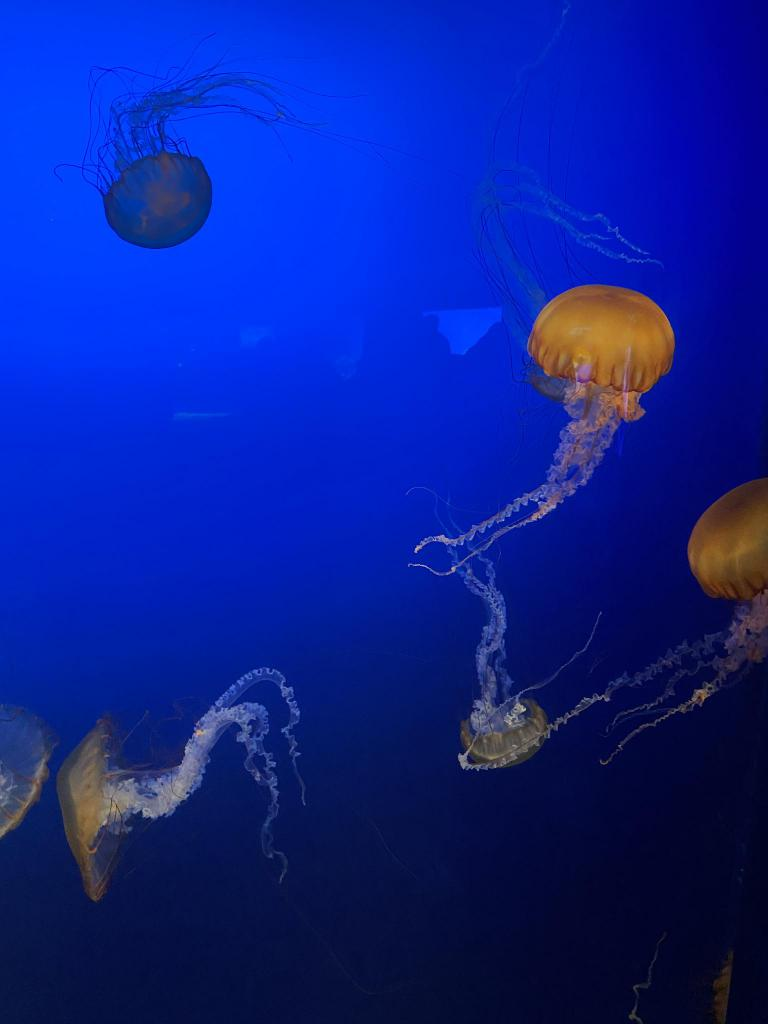jellyfish: (527, 284, 673, 392), (60, 717, 124, 903), (104, 152, 216, 250), (687, 474, 767, 602), (0, 704, 51, 853), (460, 699, 546, 767)
